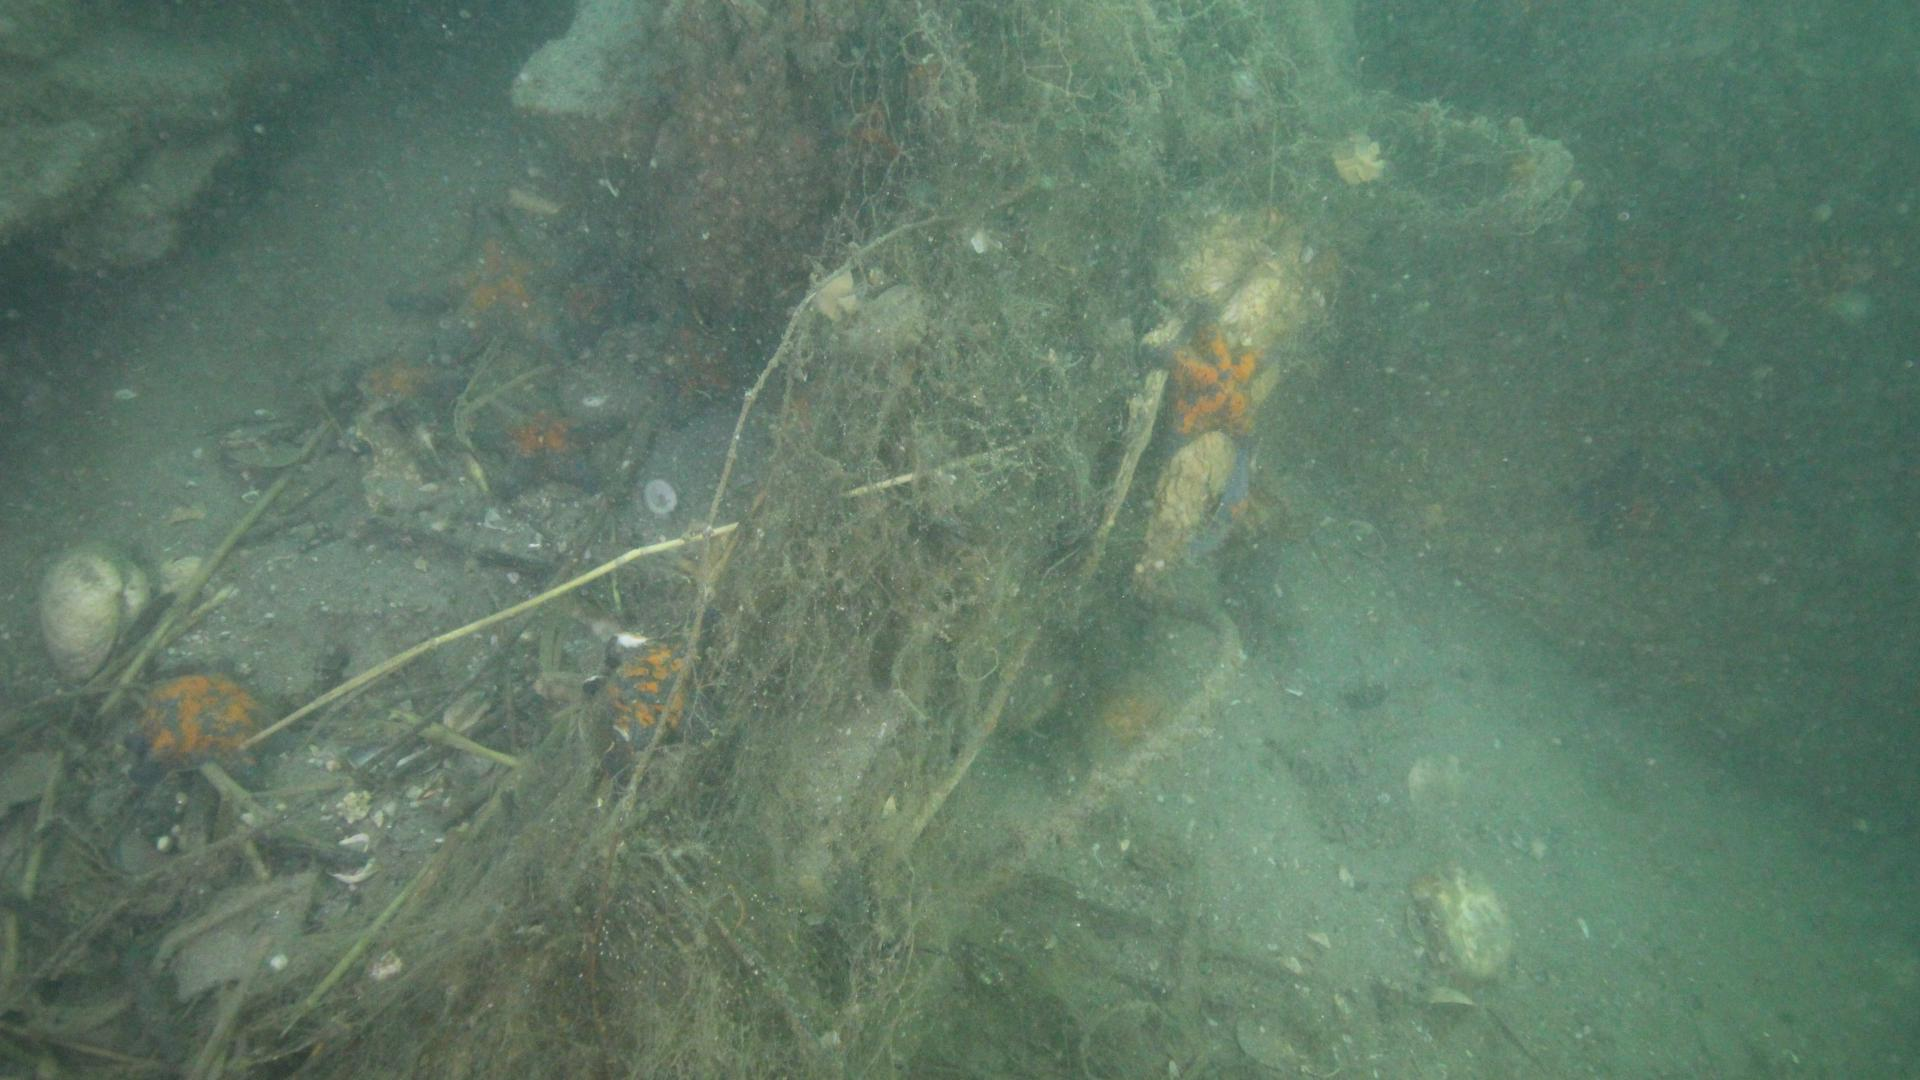rope: (975, 592, 1242, 882)
